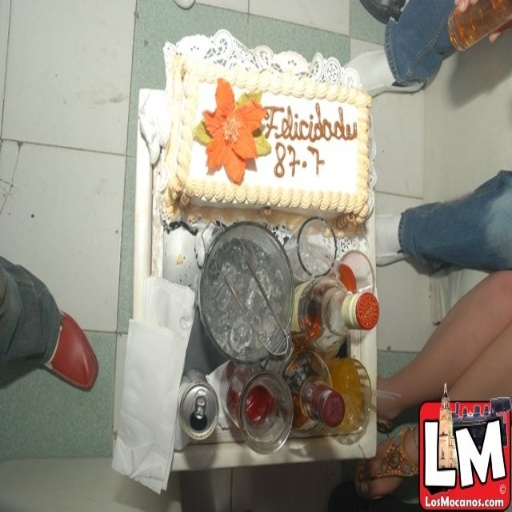hand: (453, 0, 511, 45)
